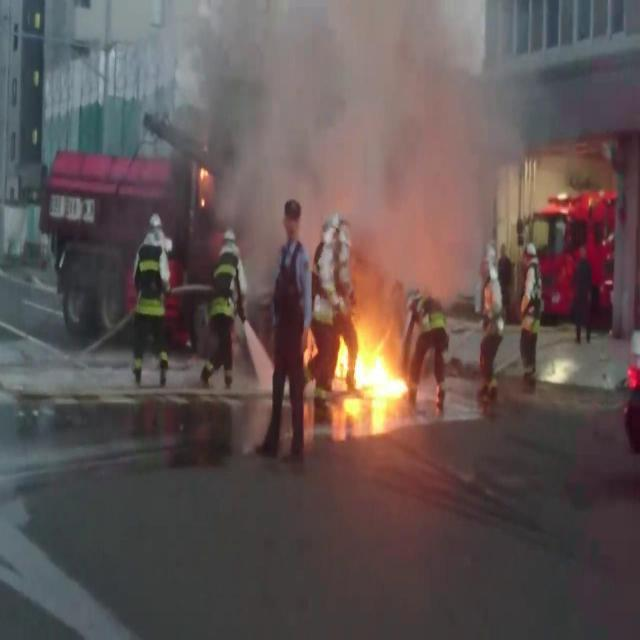Fire: (338, 328, 404, 414), (201, 166, 211, 180)
